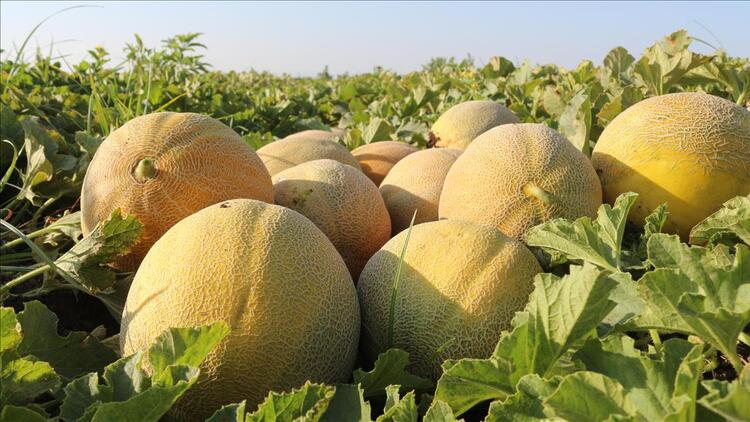Melon: (116, 203, 362, 417), (350, 223, 547, 374), (76, 112, 273, 259), (591, 92, 750, 237), (440, 125, 595, 262), (267, 164, 382, 265)
